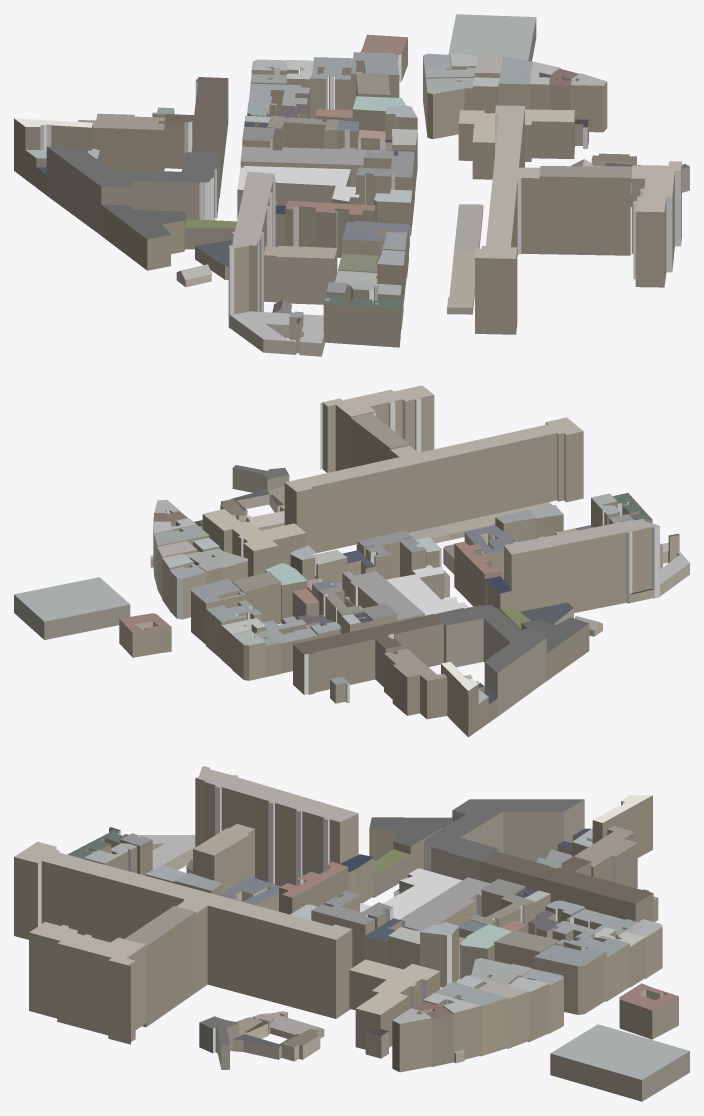
The picture shows the model from 3 angles, top to bottom: view 1: azimuth 30°, elevation 25°; view 2: azimuth 150°, elevation 25°; view 3: azimuth 270°, elevation 25°; orthographic projection. The views are drawn at different scales.
Parts seen in each view (by area): view 1: tuile; view 2: tuile; view 3: tuile.
Boxes of the visible parts, x1=… form: tuile: x1=14, y1=14, x2=689, y2=356; tuile: x1=14, y1=385, x2=689, y2=737; tuile: x1=14, y1=766, x2=689, y2=1101.
Size of the model in its own units: 276 by 48.45 by 299.
